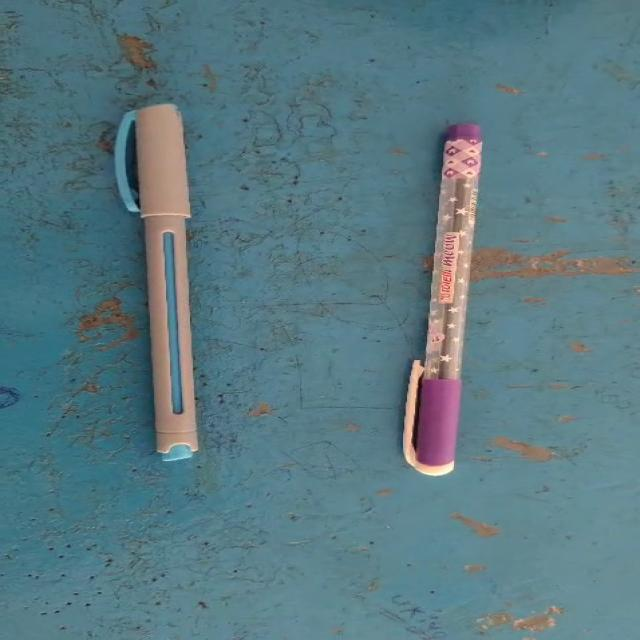pen: (51, 71, 246, 481), (351, 87, 532, 491)
